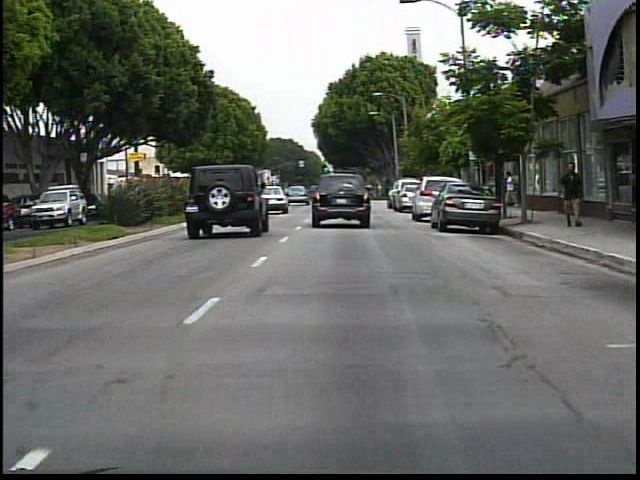person: (554, 155, 589, 232), (504, 168, 520, 210)
